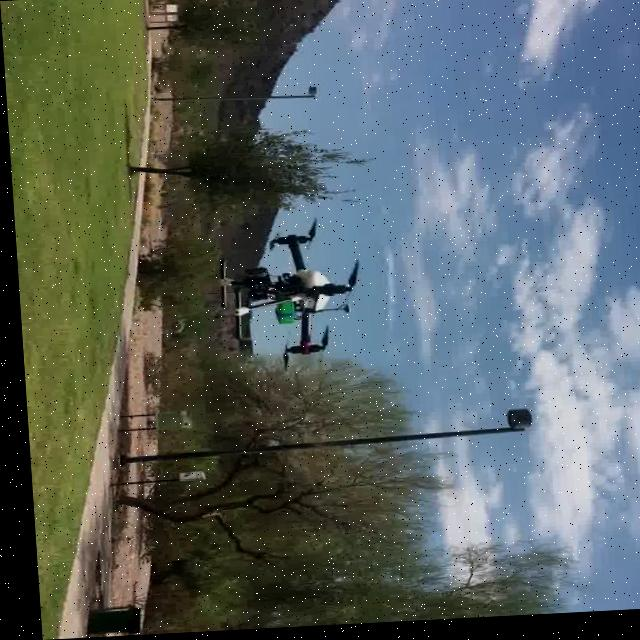drone: (212, 230, 361, 366)
